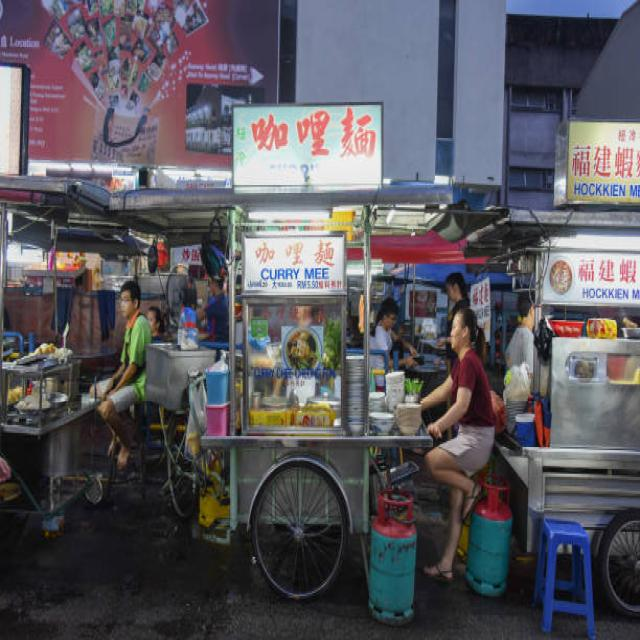Emperan: (154, 74, 489, 614)
